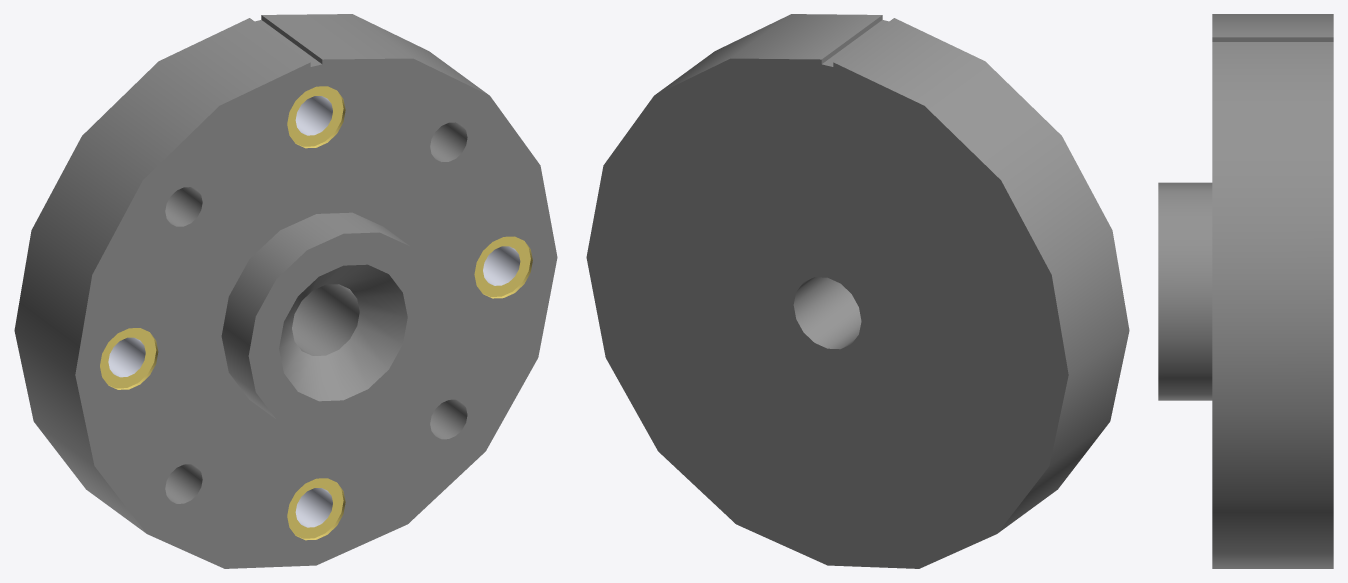
3 views of the same model, side by side, from view 1: azimuth 30°, elevation 25°; view 2: azimuth 150°, elevation 25°; view 3: azimuth 270°, elevation 25° (orthographic).
Parts seen in each view (by area): view 1: mesh14836, mesh14840, mesh14843, mesh14845, mesh14842, mesh14844, mesh14851, mesh14847, mesh14849, mesh14853, mesh14858, mesh14864 (+6 smaller); view 2: mesh14841, mesh14840, mesh14844; view 3: mesh14840, mesh14842, mesh14839.
Part boxes in pixels (box(x1,y1,x2,y2)): mesh14836: box(75, 58, 557, 568); mesh14840: box(14, 14, 488, 533); mesh14843: box(248, 232, 438, 433); mesh14845: box(279, 264, 407, 401); mesh14842: box(221, 212, 409, 418); mesh14844: box(292, 284, 359, 355); mesh14851: box(474, 236, 530, 296); mesh14847: box(100, 328, 156, 388); mesh14849: box(287, 478, 343, 538); mesh14853: box(287, 86, 343, 146); mesh14858: box(430, 399, 467, 439); mesh14864: box(108, 337, 145, 377); mesh14841: box(586, 58, 1068, 568); mesh14840: box(655, 14, 1129, 533); mesh14844: box(793, 277, 861, 349); mesh14840: box(1212, 14, 1333, 568); mesh14842: box(1158, 182, 1212, 400); mesh14839: box(1212, 37, 1333, 41).
Bounding box in the file's own units: 0.0206 × 0.0206 × 0.0065.
